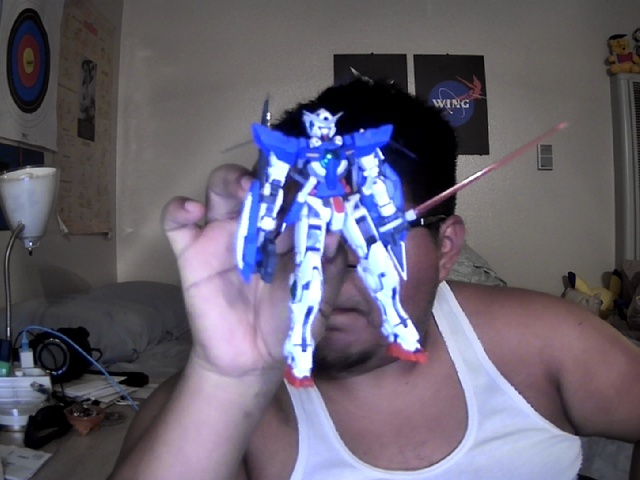Exia: (234, 95, 572, 392)
